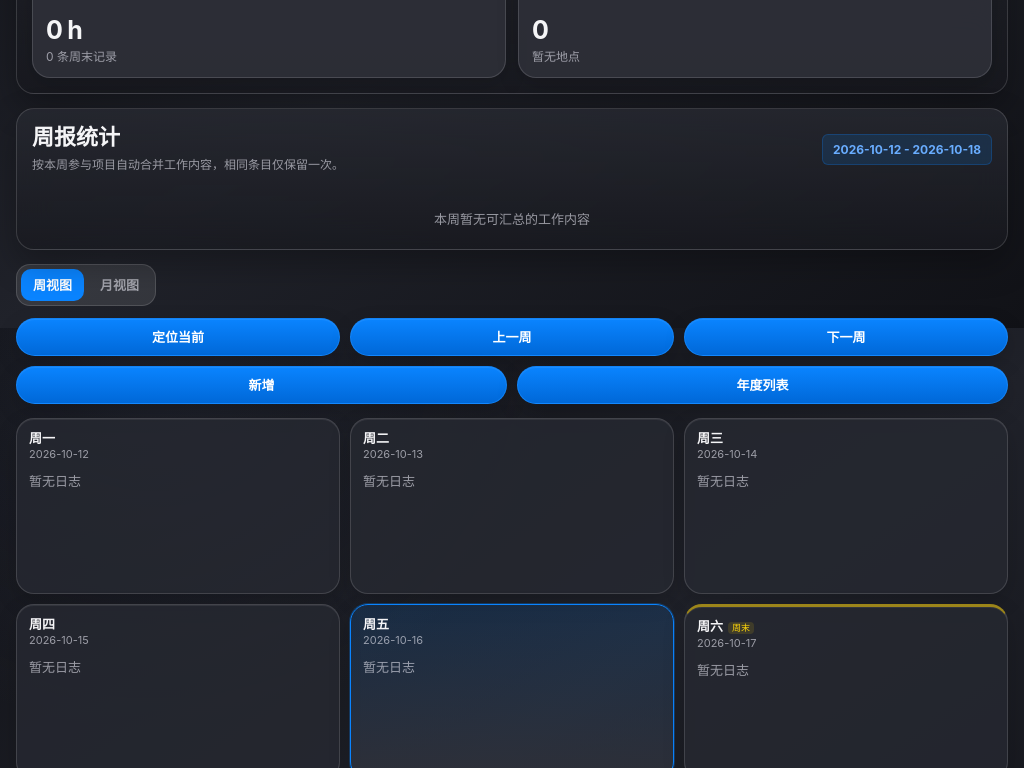
Test case: WorkLog MacDialog integration › completes a candidate without submitting or filling the new log
(page scrolled)
Step 1. Click the button "新增" → (262, 385), box [16,366,507,404]
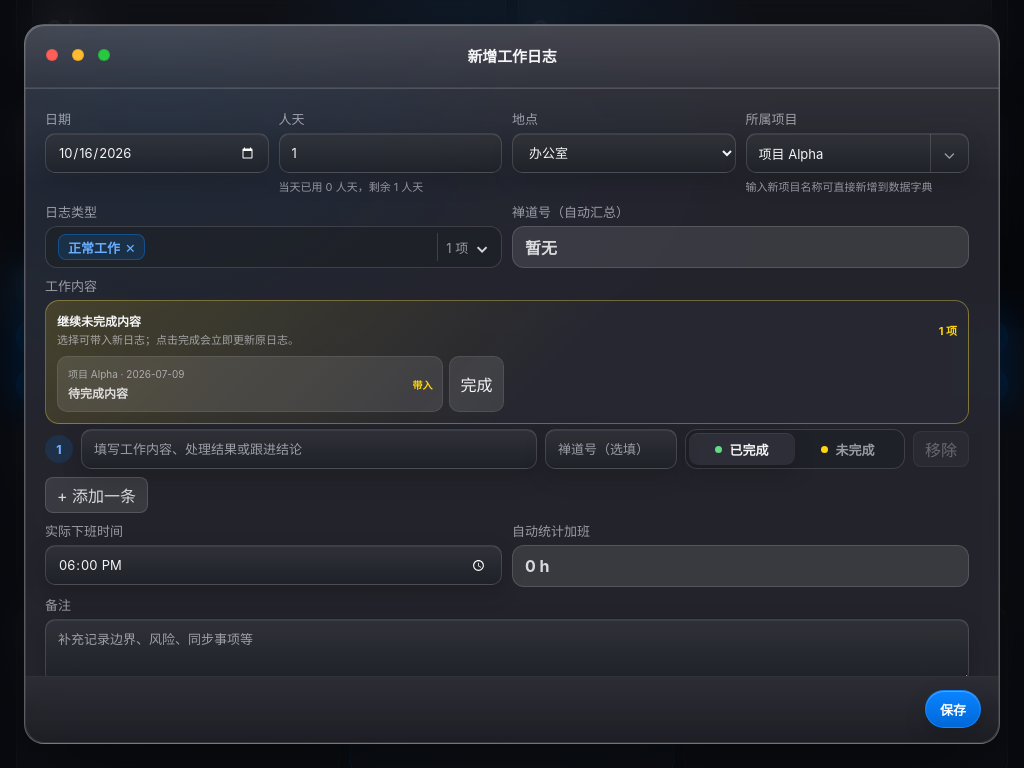
Step 2. Click the button with class "unfinished-complete" → (476, 384), box [450,356,504,412]
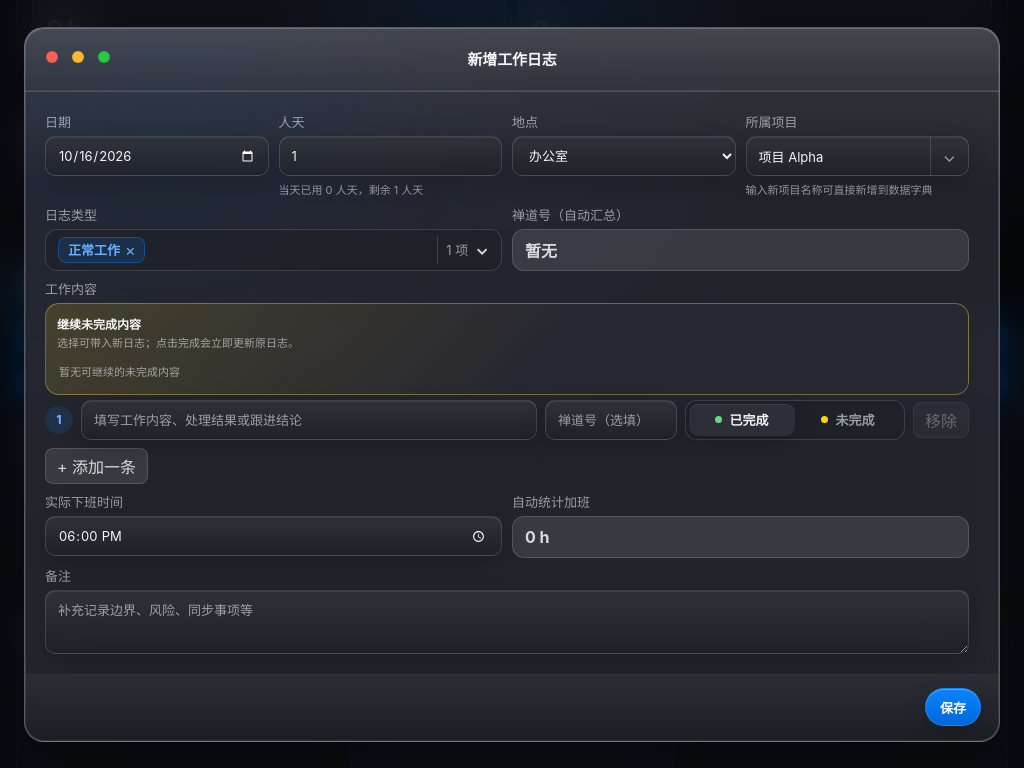
Expected: the field with class "work-item-content-input" is empty, [81,400,537,440]
Expected: the button with class "unfinished-option" is gone
